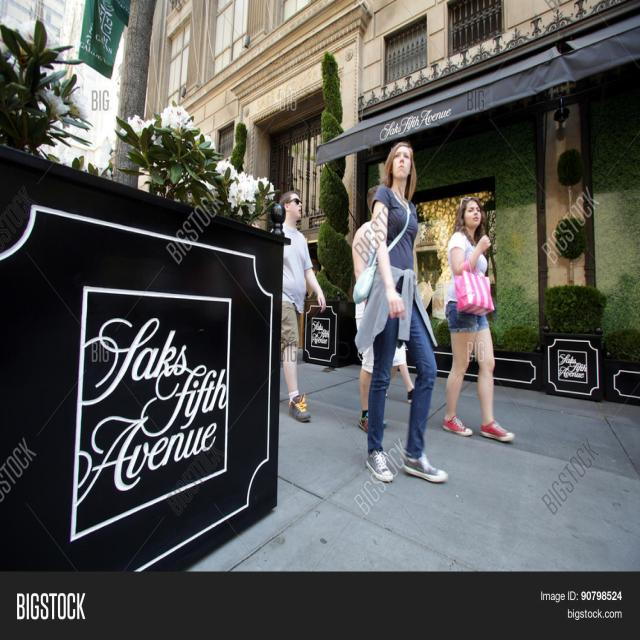body: (351, 136, 451, 486), (440, 193, 518, 444), (272, 188, 328, 424), (351, 183, 388, 436), (378, 334, 417, 401)
